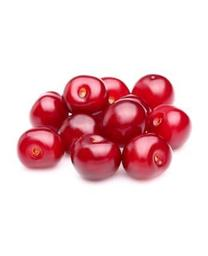cherry: (69, 133, 121, 182), (98, 95, 149, 144), (122, 133, 173, 180), (147, 104, 192, 153), (63, 75, 109, 117), (17, 128, 63, 168), (132, 74, 173, 115), (32, 92, 74, 132), (58, 114, 99, 154), (98, 79, 130, 114)
